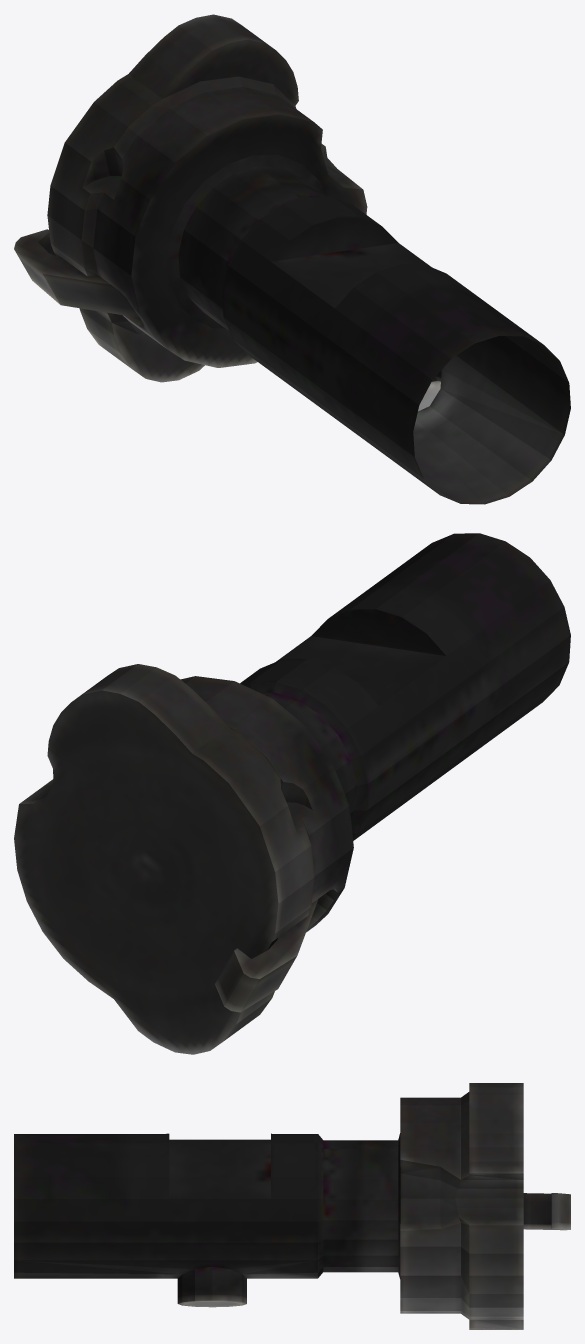
The picture shows the model from 3 angles, top to bottom: view 1: azimuth 30°, elevation 25°; view 2: azimuth 150°, elevation 25°; view 3: azimuth 270°, elevation 25°; orthographic projection. The views are drawn at different scales.
Visible parts, largest first — view 1: TW_6259b864ebedf17603599e88_PZ_Import; view 2: TW_6259b864ebedf17603599e88_PZ_Import; view 3: TW_6259b864ebedf17603599e88_PZ_Import.
Part boxes in pixels (x1,y1,x2,y2): TW_6259b864ebedf17603599e88_PZ_Import: (14, 14, 570, 504); TW_6259b864ebedf17603599e88_PZ_Import: (14, 533, 570, 1054); TW_6259b864ebedf17603599e88_PZ_Import: (14, 1083, 570, 1329).
Size of the model in its own units: 0.0141 by 0.0329 by 0.0168.
1 material, 1 textured.
